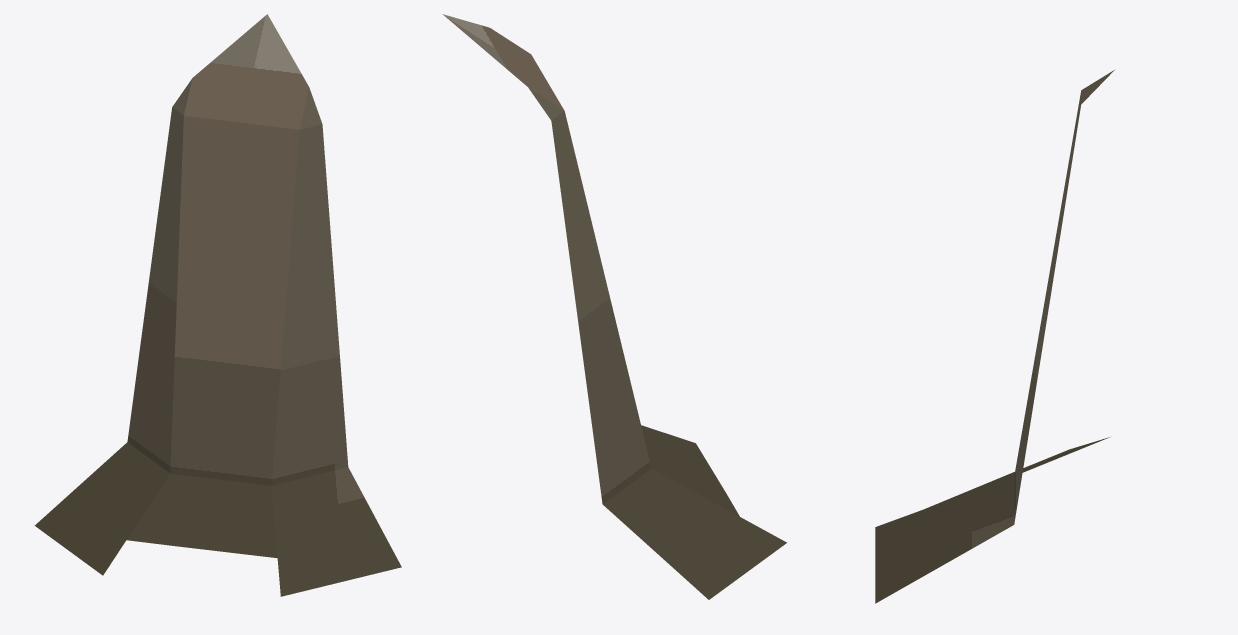
3 views of the same model, side by side, from view 1: azimuth 30°, elevation 25°; view 2: azimuth 150°, elevation 25°; view 3: azimuth 270°, elevation 25° (orthographic). The views are drawn at different scales.
Bounding box in the file's own units: 0.293 × 0.5178 × 0.293.
Materials: 1 (1 with a texture image).
